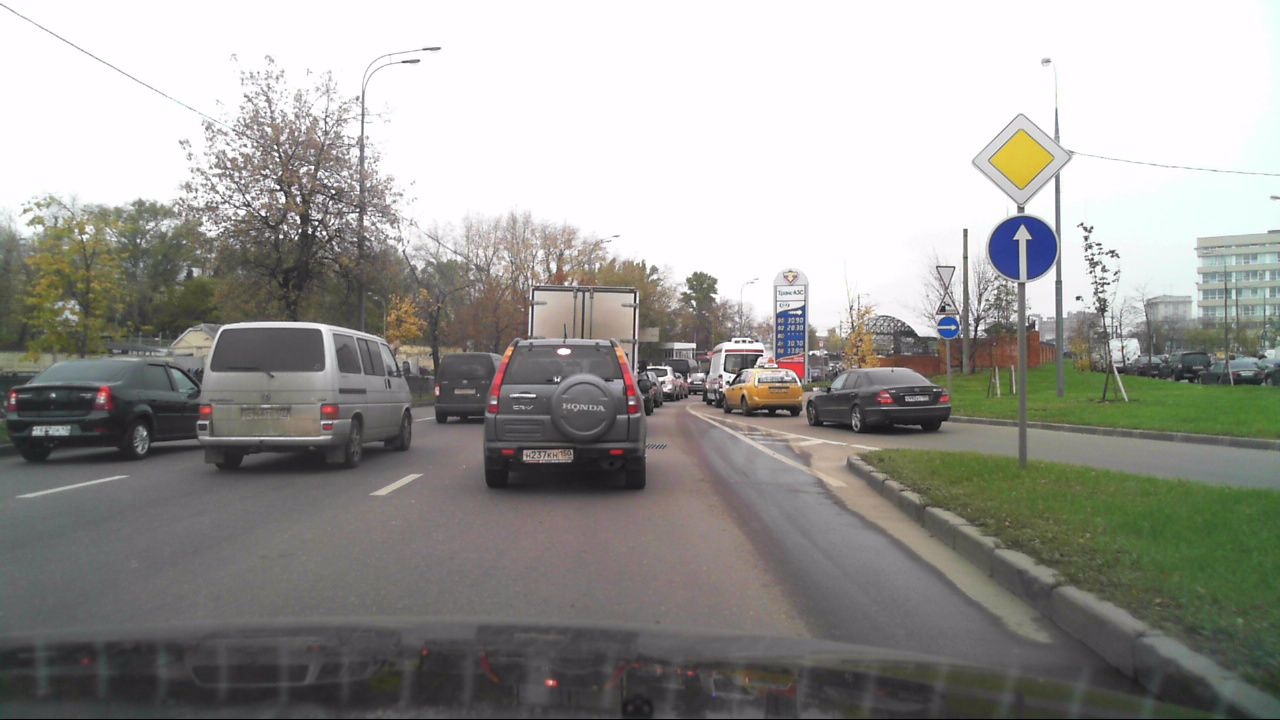Turn Right: (936, 316, 960, 339)
